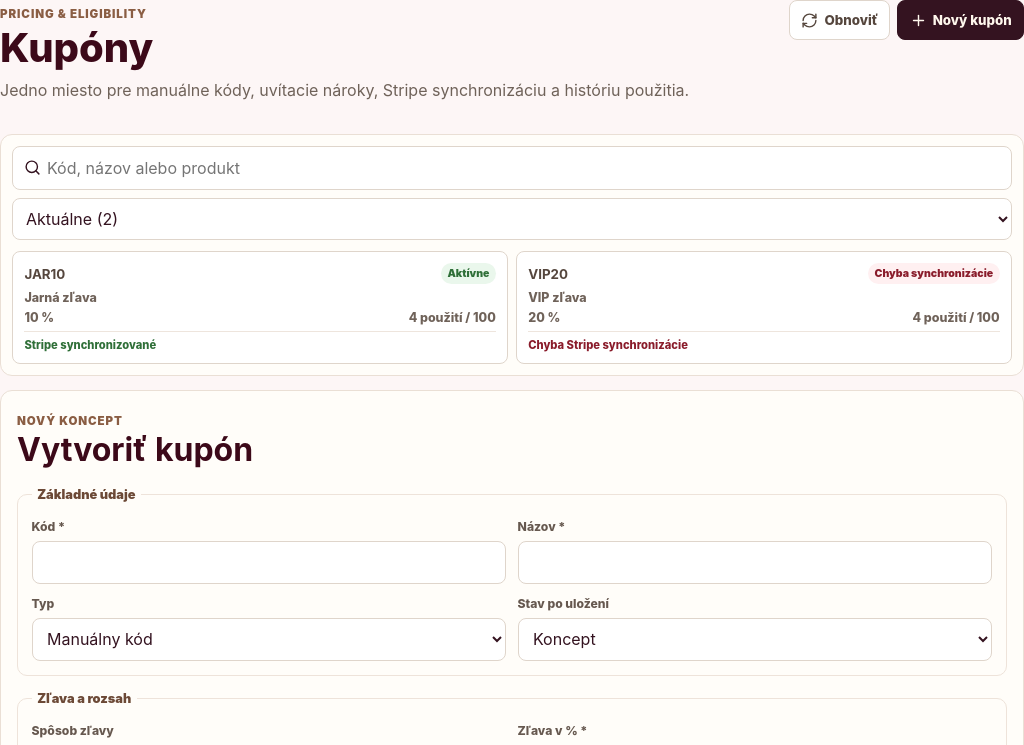
Test: AdminCouponsSection › keeps lifecycle actions reversible until the accessible confirmation is accepted
Click the button "JAR10": (45, 274) [12, 251, 508, 364]
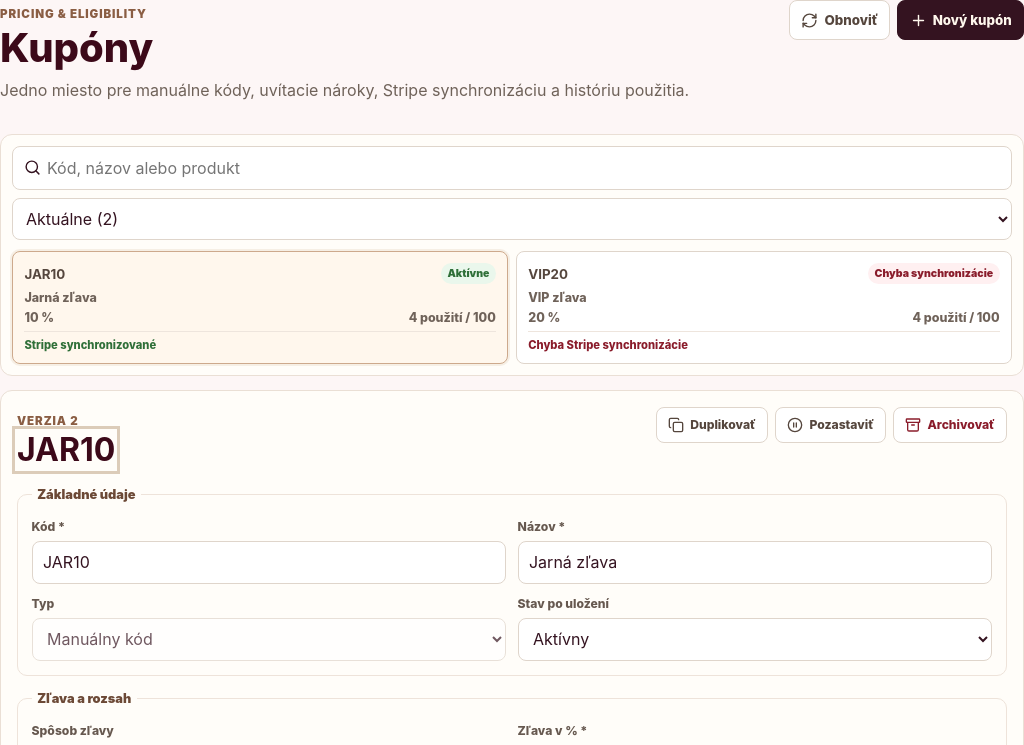
Click the button "Pozastaviť": (831, 424) [775, 406, 886, 442]
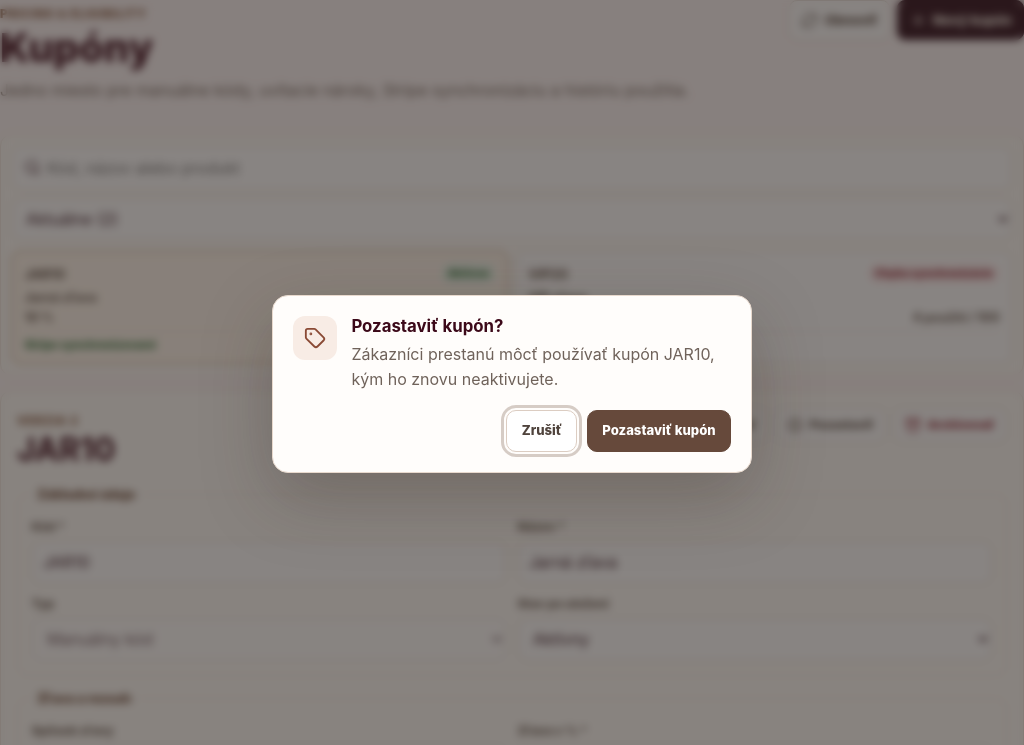
Expected: the text "Zákazníci prestanú môcť používať" is shown, [351, 344, 715, 389]
Press Escape
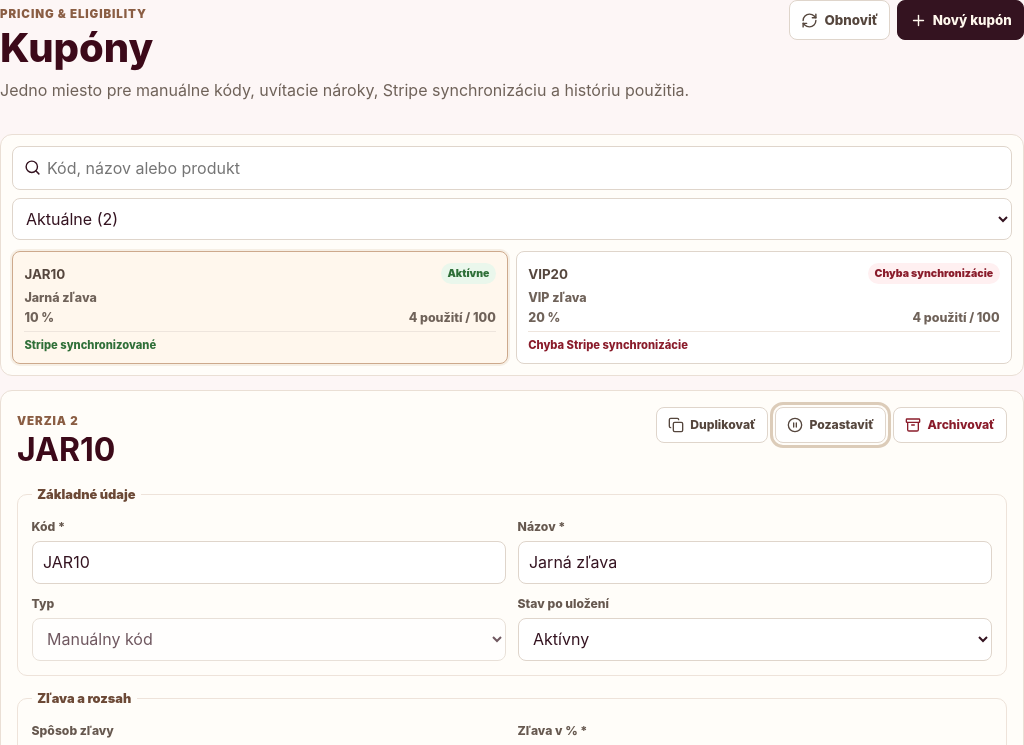
Expected: the dialog is gone
